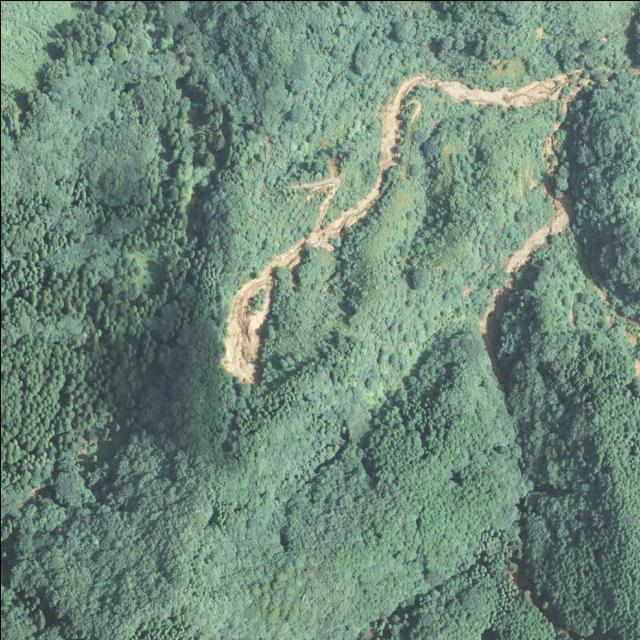landslide: (220, 68, 592, 383), (506, 198, 569, 273)
